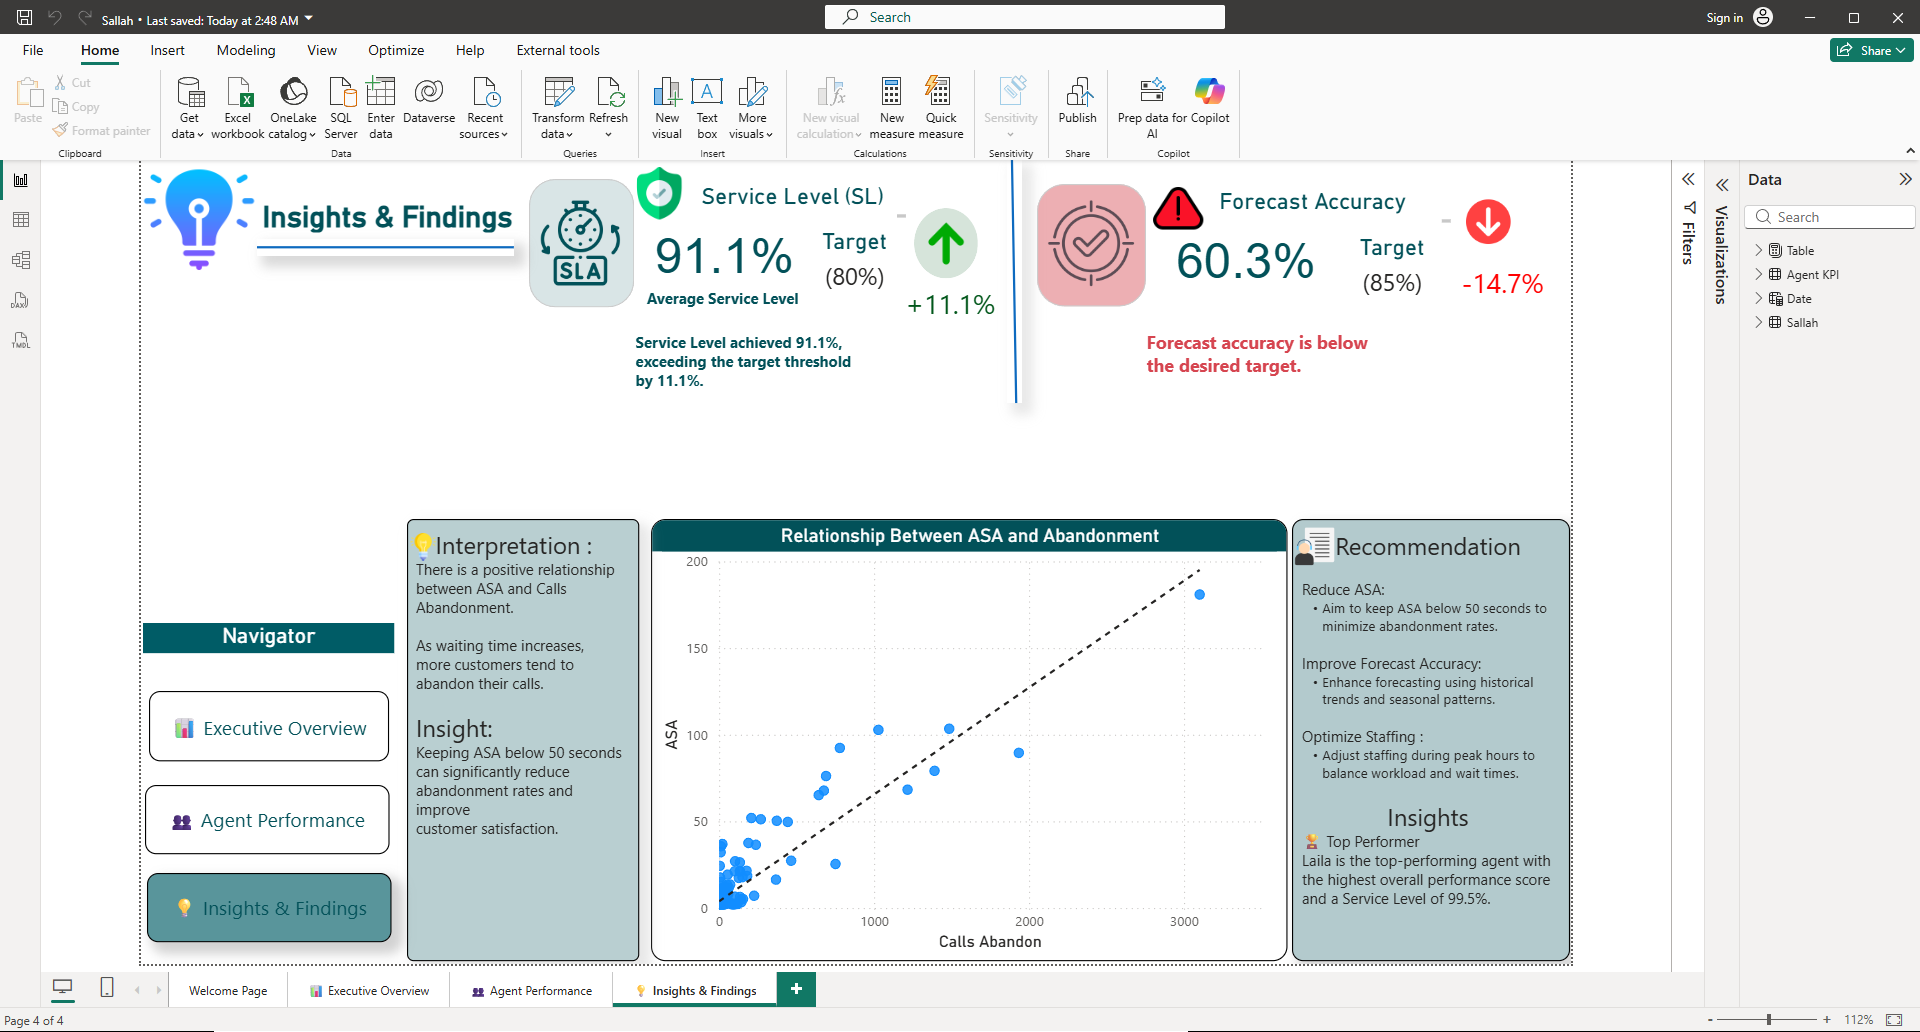

The dashboard page shown, as its layout file describes it:
{"tool":"powerbi","page":{"name":"💡 Insights & Findings","canvas":[1280,720],"ordinal":3},"visuals":[{"type":"image","box":[0,0,103.6,106.8],"z":0},{"type":"group","id":"g1","title":"Group 5","box":[424,6.3,351.7,145.6],"z":0,"group":"g4"},{"type":"shape","box":[347.7,17.1,94.2,114.9],"z":0,"group":"g5"},{"type":"shape","box":[802.2,21.7,97.6,109.7],"z":0,"group":"g7"},{"type":"group","id":"g2","title":"Group 6","box":[347.7,5.3,94.2,138.7],"z":1000,"group":"g4"},{"type":"group","id":"g3","title":"Group 5","box":[883.9,20.2,293.7,112.3],"z":1000,"group":"g13"},{"type":"textbox","title":" Insights & Findings","box":[103.6,34.9,267.4,34.9],"z":1000},{"type":"actionButton","title":"Navigator","box":[2.1,414.3,225.1,293.8],"z":1000,"group":"g11"},{"type":"group","id":"g4","title":"Group 7","box":[347.7,5.3,428.1,213.5],"z":2000},{"type":"image","box":[356.2,5.3,76.3,138.7],"z":2000,"group":"g2"},{"type":"image","box":[811,8.5,78.8,132.3],"z":2000,"group":"g9"},{"type":"textbox","box":[438.2,149.3,238.7,70.3],"z":2000,"group":"g4"},{"type":"shape","box":[775.8,0,12.7,217.7],"z":3000},{"type":"actionButton","box":[5.4,637.9,218.6,61.9],"z":3000,"group":"g11"},{"type":"image","box":[424,6.3,81.1,46.6],"z":4000,"group":"g1"},{"type":"image","box":[883.9,20.2,90,47.4],"z":4000,"group":"g3"},{"type":"textbox","box":[895.6,147.6,248,56.4],"z":4000,"group":"g14"},{"type":"scatterChart","title":"Relationship Between ASA and Abandonment","fields":{"X":["Sallah.Calls Abandon"],"Y":["Sallah.ASA"]},"box":[456.6,321.3,569.7,396.4],"z":4000},{"type":"group","id":"g5","title":"Group 1","box":[347.7,17.1,94.2,114.9],"z":5000,"group":"g2"},{"type":"textbox","title":"Service Level  (SL)","box":[497.2,20.4,192.9,35.7],"z":5000,"group":"g6"},{"type":"textbox","title":"Forecast Accuracy","box":[960.9,25.5,216.8,36.2],"z":5000,"group":"g8"},{"type":"textbox","box":[1030.6,321.3,249.4,396.4],"z":5000},{"type":"actionButton","box":[7.1,475,215.3,63],"z":5000,"group":"g11"},{"type":"group","id":"g6","title":"Group 4","box":[446,20.4,329.7,131.5],"z":6000,"group":"g1"},{"type":"group","id":"g7","title":"Group 1","box":[802.2,21.7,97.6,109.7],"z":6000,"group":"g10"},{"type":"group","id":"g8","title":"Group 4","box":[905.3,25.5,272.3,107],"z":6000,"group":"g3"},{"type":"textbox","title":"91.1% ","box":[446,60.7,153.4,77.7],"z":6000,"group":"g6"},{"type":"textbox","title":"60.3%","box":[905.3,65.6,168.7,56.9],"z":6000,"group":"g8"},{"type":"image","box":[1032.7,321.3,37,49.7],"z":6000},{"type":"textbox","title":"Target ","box":[599.4,60.7,80.2,65],"z":7000,"group":"g6"},{"type":"textbox","title":"Target ","box":[1075.7,66.4,90.1,66.1],"z":7000,"group":"g8"},{"type":"textbox","box":[237.8,321.7,208.2,396.4],"z":7000},{"type":"group","id":"g9","title":"Group 11","box":[802.2,8.5,472.5,195.5],"z":8000},{"type":"image","box":[679.6,50,82,48.5],"z":8000,"group":"g12"},{"type":"image","box":[1186.4,32.8,39.9,46.7],"z":9000,"group":"g13"},{"type":"shape","box":[691.9,43.2,57.4,63.1],"z":9000,"group":"g12"},{"type":"shape","box":[103.6,70.8,230.4,14.8],"z":9000},{"type":"group","id":"g10","title":"Group 10","box":[802.2,20.2,472.7,183.8],"z":10000,"group":"g9"},{"type":"textbox","box":[1177.6,88.3,97.3,45.7],"z":10000,"group":"g13"},{"type":"textbox","box":[679.6,106.3,96.1,45.6],"z":10000,"group":"g6"},{"type":"group","id":"g11","title":"Group 2","box":[2.1,414.3,225.1,293.8],"z":10000},{"type":"image","box":[237.8,334,29.6,25.4],"z":11000},{"type":"group","id":"g12","title":"Group 3","box":[679.6,43.2,82,63.1],"z":11001,"group":"g6"},{"type":"group","id":"g13","title":"Group 8","box":[883.9,20.2,391,113.8],"z":12003,"group":"g14"},{"type":"group","id":"g14","title":"Group 9","box":[883.9,20.2,391,183.8],"z":12004,"group":"g10"},{"type":"actionButton","box":[4.3,559.2,218.6,61.9],"z":18000,"group":"g11"}]}

Visuals, with their boxes on the page's 1280x720 design canvas (x1, y1, x2, y2). These are canvas units, not pixel positions in the 1920x1032 screenshot, which may show the page scaled, cropped or inside an application window:
image: bbox(0, 0, 104, 107)
"Group 5" group: bbox(424, 6, 776, 152)
shape: bbox(348, 17, 442, 132)
shape: bbox(802, 22, 900, 131)
"Group 6" group: bbox(348, 5, 442, 144)
"Group 5" group: bbox(884, 20, 1178, 132)
" Insights & Findings" textbox: bbox(104, 35, 371, 70)
"Navigator" actionButton: bbox(2, 414, 227, 708)
"Group 7" group: bbox(348, 5, 776, 219)
image: bbox(356, 5, 432, 144)
image: bbox(811, 8, 890, 141)
textbox: bbox(438, 149, 677, 220)
shape: bbox(776, 0, 788, 218)
actionButton: bbox(5, 638, 224, 700)
image: bbox(424, 6, 505, 53)
image: bbox(884, 20, 974, 68)
textbox: bbox(896, 148, 1144, 204)
"Relationship Between ASA and Abandonment" scatterChart: bbox(457, 321, 1026, 718)
"Group 1" group: bbox(348, 17, 442, 132)
"Service Level  (SL)" textbox: bbox(497, 20, 690, 56)
"Forecast Accuracy" textbox: bbox(961, 26, 1178, 62)
textbox: bbox(1031, 321, 1280, 718)
actionButton: bbox(7, 475, 222, 538)
"Group 4" group: bbox(446, 20, 776, 152)
"Group 1" group: bbox(802, 22, 900, 131)
"Group 4" group: bbox(905, 26, 1178, 132)
"91.1% " textbox: bbox(446, 61, 599, 138)
"60.3%" textbox: bbox(905, 66, 1074, 122)
image: bbox(1033, 321, 1070, 371)
"Target " textbox: bbox(599, 61, 680, 126)
"Target " textbox: bbox(1076, 66, 1166, 132)
textbox: bbox(238, 322, 446, 718)
"Group 11" group: bbox(802, 8, 1275, 204)
image: bbox(680, 50, 762, 98)
image: bbox(1186, 33, 1226, 80)
shape: bbox(692, 43, 749, 106)
shape: bbox(104, 71, 334, 86)
"Group 10" group: bbox(802, 20, 1275, 204)
textbox: bbox(1178, 88, 1275, 134)
textbox: bbox(680, 106, 776, 152)
"Group 2" group: bbox(2, 414, 227, 708)
image: bbox(238, 334, 267, 359)
"Group 3" group: bbox(680, 43, 762, 106)
"Group 8" group: bbox(884, 20, 1275, 134)
"Group 9" group: bbox(884, 20, 1275, 204)
actionButton: bbox(4, 559, 223, 621)
